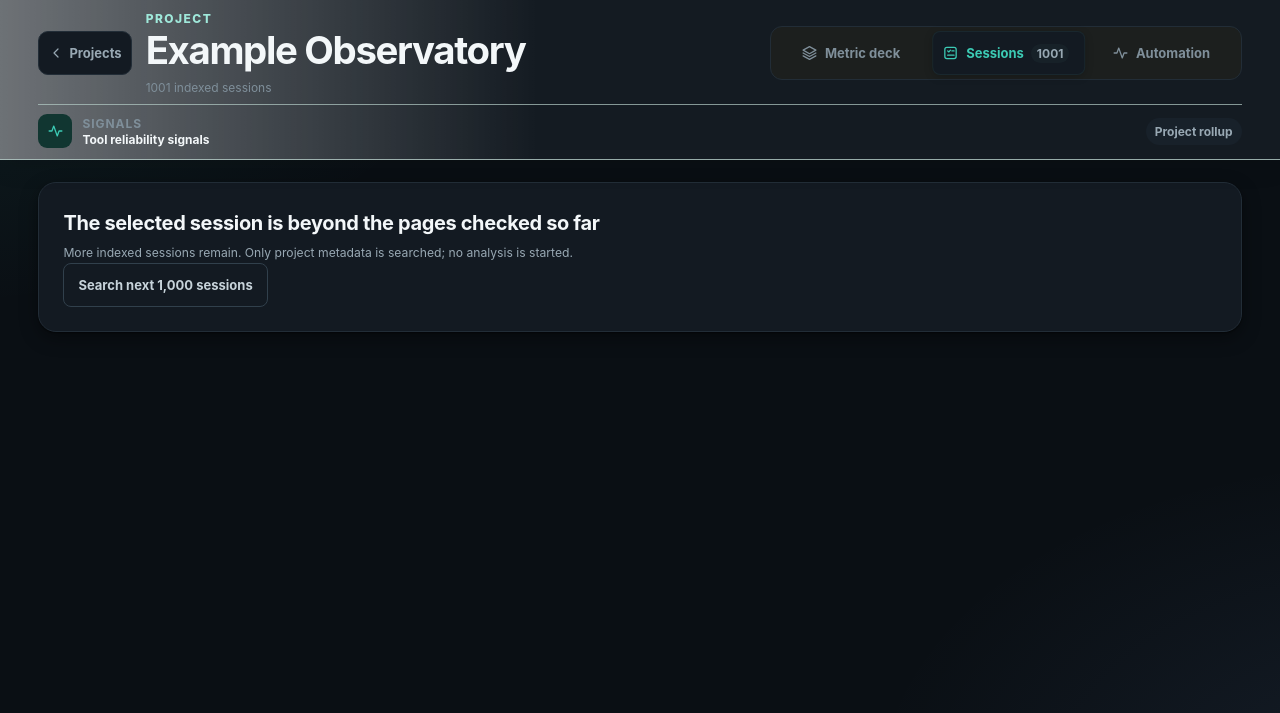
Scenario: ProjectWorkspace › bounds older-session lookup and lets the user explicitly search the next pages
Click the button "Search next 1,000 sessions" at (166, 285), box left=63, top=263, right=268, bottom=307
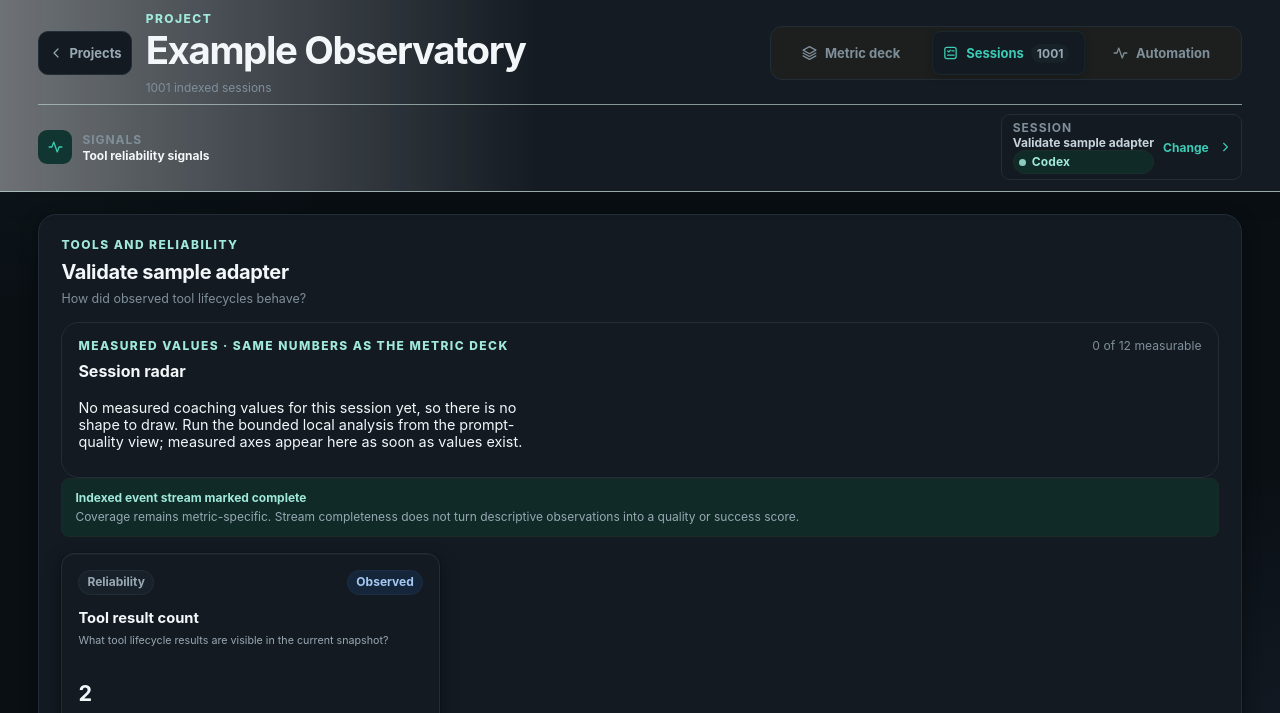
Now the heading "Tool result count" is shown, box left=78, top=608, right=199, bottom=626
